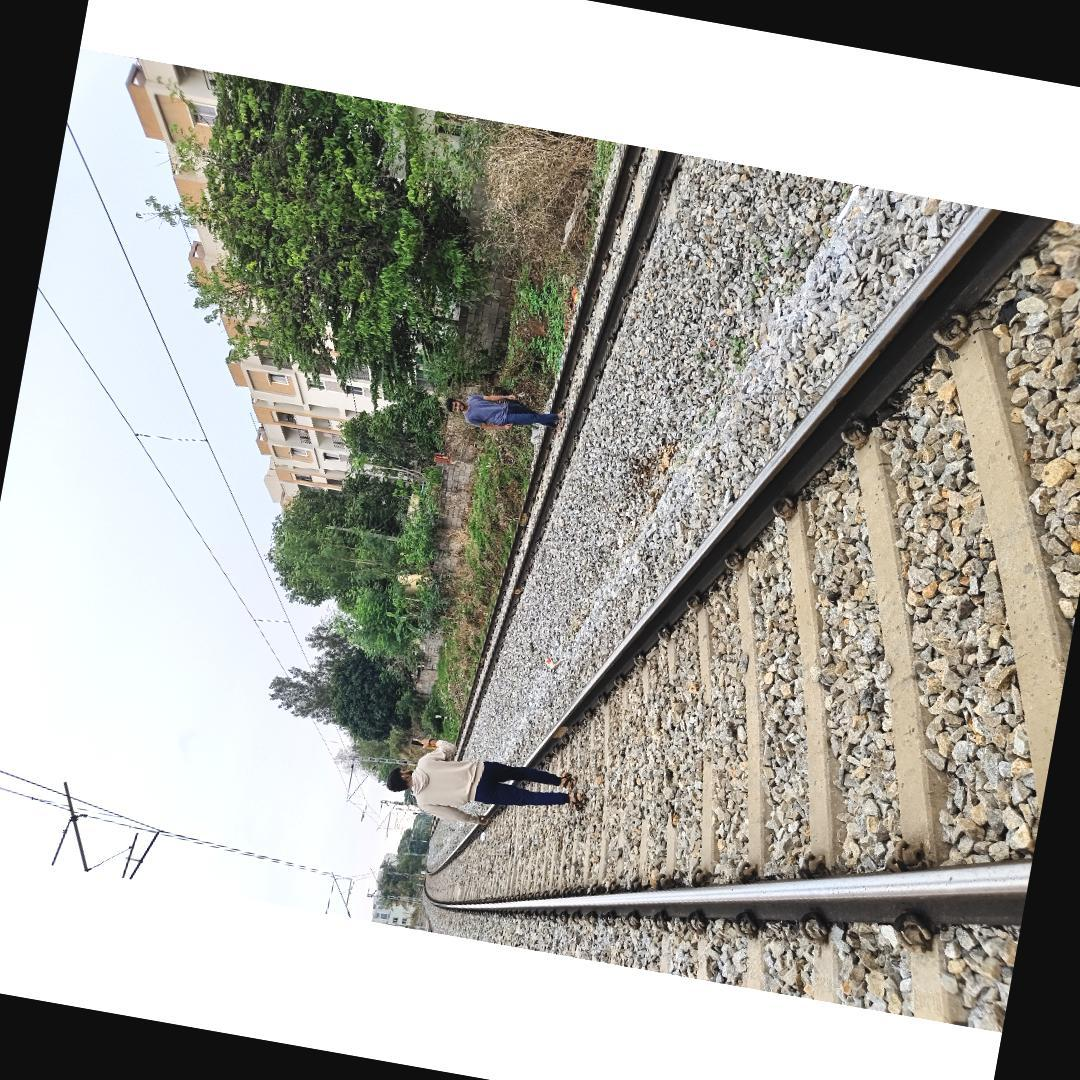standing: (378, 730, 590, 844), (440, 381, 566, 444)
track: (404, 192, 1080, 1033), (444, 141, 715, 757)
